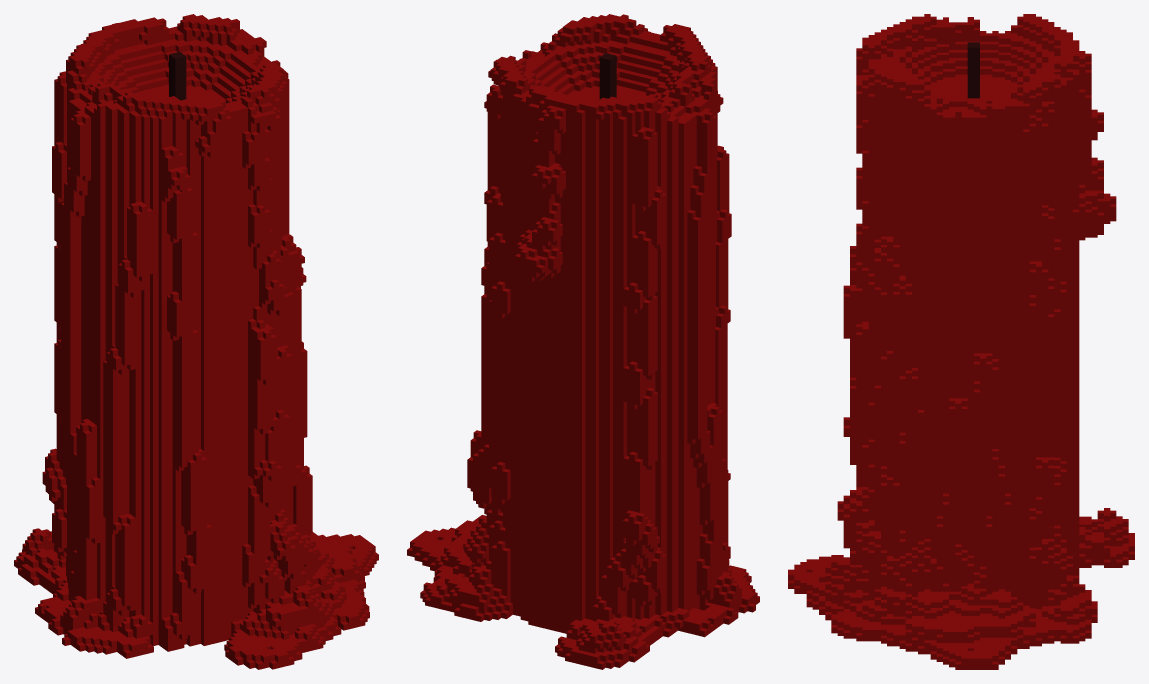
File: tampon-1.obj
3 renders of one model, left to right at view 1: azimuth 30°, elevation 25°; view 2: azimuth 150°, elevation 25°; view 3: azimuth 270°, elevation 25°, orthographic. The views are drawn at different scales.
Size of the model in its own units: 5.9 by 9.5 by 5.6.
1 material, 1 textured.
